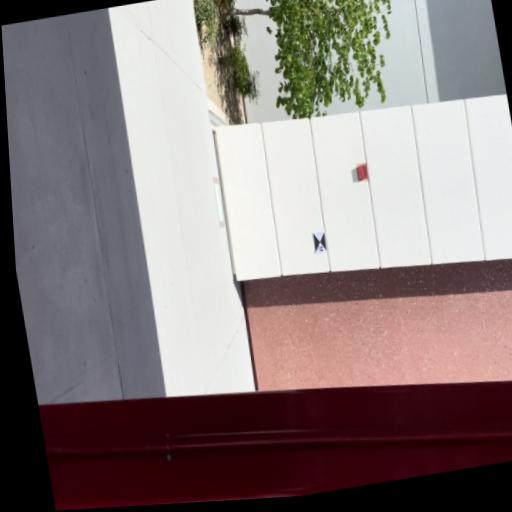target9: (313, 231, 327, 254)
